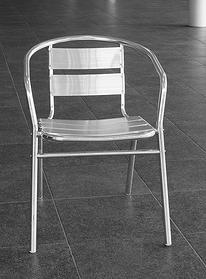obstacle: (24, 35, 171, 252), (189, 0, 205, 26)
